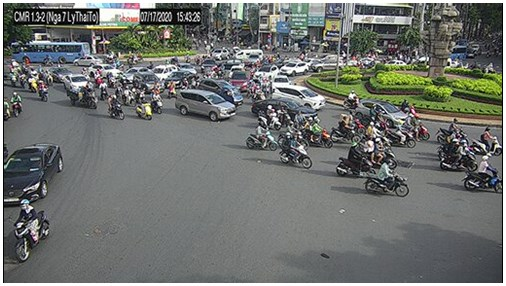xe_hoi: (4, 144, 64, 202), (173, 88, 236, 122), (273, 84, 326, 112), (120, 67, 155, 82), (88, 64, 122, 79), (63, 76, 93, 92), (253, 64, 279, 82), (229, 70, 250, 92), (312, 59, 345, 72), (168, 71, 198, 85), (280, 62, 310, 76), (45, 67, 72, 82), (72, 55, 103, 66), (154, 65, 178, 79), (218, 59, 243, 70), (201, 59, 218, 72), (273, 74, 291, 86)
xe_khach: (235, 50, 264, 61)
xe_may: (13, 198, 50, 263), (365, 159, 409, 197), (336, 142, 376, 179), (466, 156, 502, 191), (440, 139, 477, 172), (280, 133, 313, 169), (364, 135, 398, 168), (331, 114, 363, 146), (245, 121, 278, 152), (470, 128, 504, 157), (304, 116, 333, 149), (436, 117, 469, 146), (386, 120, 417, 150), (283, 122, 309, 151), (258, 105, 280, 129), (369, 108, 390, 131), (107, 94, 125, 120), (350, 110, 368, 135), (134, 94, 151, 120), (342, 90, 361, 110), (37, 79, 50, 102), (151, 91, 163, 114), (122, 85, 135, 106), (11, 91, 21, 118), (251, 88, 268, 102), (94, 65, 104, 86), (27, 75, 37, 94), (8, 68, 17, 88), (262, 76, 271, 95), (166, 82, 176, 98), (20, 73, 29, 90), (101, 80, 108, 100), (179, 78, 188, 89)
